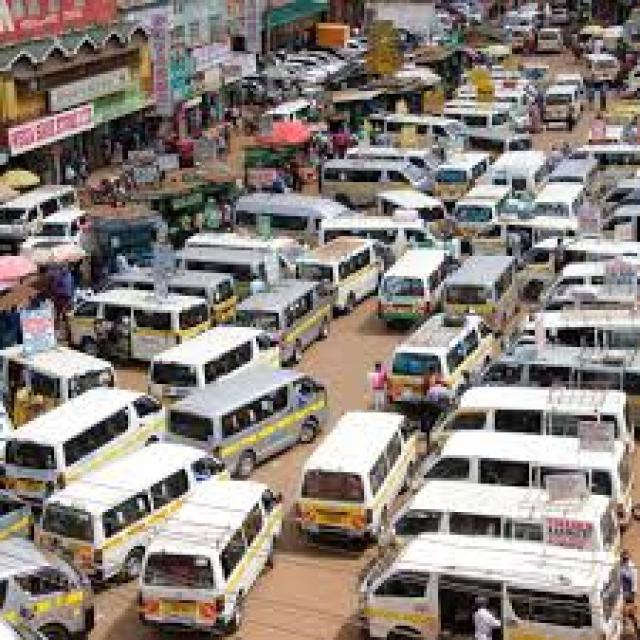matatu: (381, 531, 615, 640), (204, 477, 289, 604), (177, 369, 283, 464), (0, 531, 90, 640), (416, 473, 586, 528), (4, 325, 112, 404), (298, 433, 372, 547), (448, 378, 640, 421), (429, 426, 604, 466), (0, 414, 101, 483), (260, 277, 334, 355), (226, 192, 326, 249), (386, 294, 446, 388), (467, 251, 532, 325), (370, 107, 488, 147), (118, 456, 154, 586), (116, 280, 206, 332), (526, 171, 591, 240), (325, 152, 405, 203), (452, 190, 512, 233), (328, 228, 378, 279)
